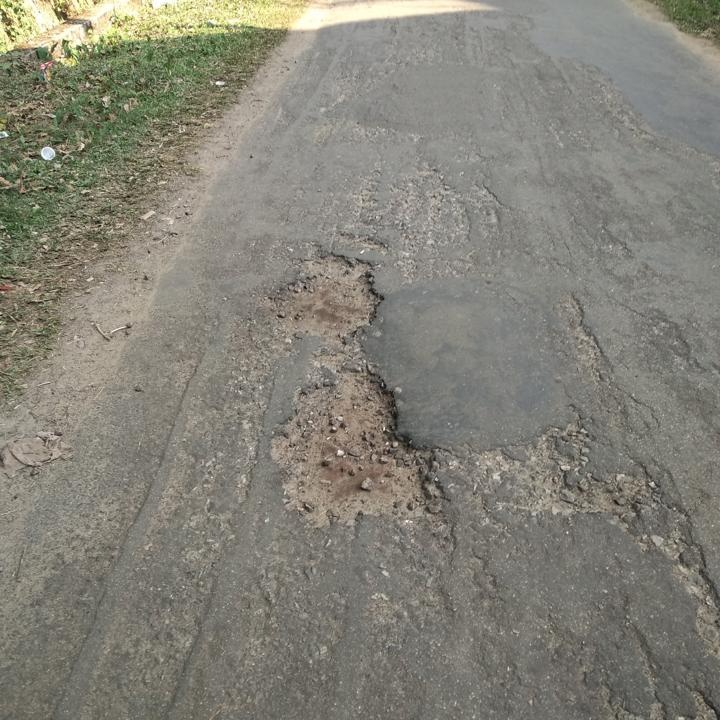pothole: (265, 360, 438, 527), (491, 426, 660, 521), (269, 243, 384, 337)
